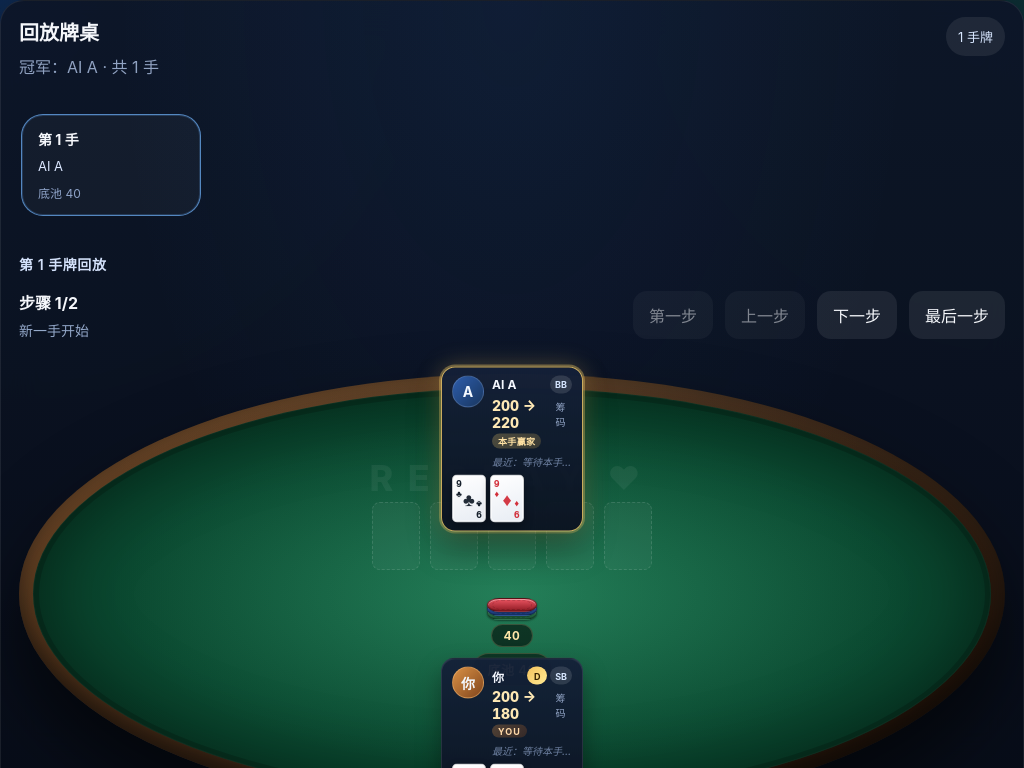
ReplayView › supports step navigation and shows matching model thoughts on the right
Check: the text "新一手开始" is shown, box 19,320 -> 89,340
Step 1. Click the button "下一步" → (857, 315), box 817,291 -> 897,339
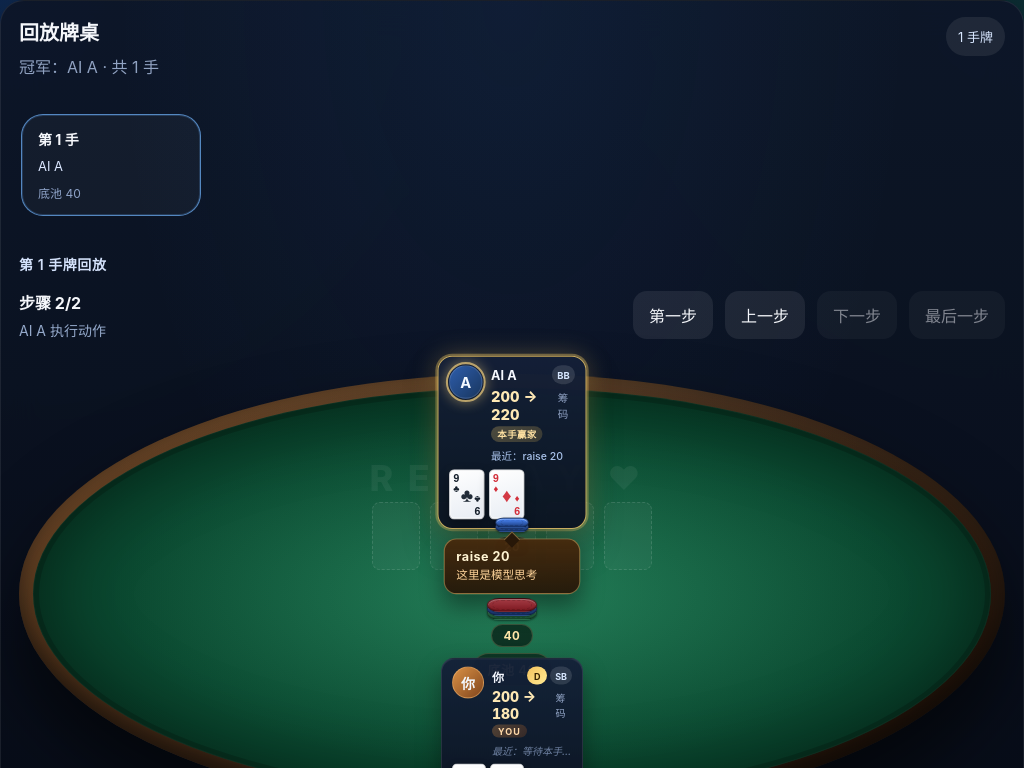
Check: the text "AI A 执行动作" is shown, box 19,320 -> 106,340
Check: the text "raise 20" is shown, box 456,548 -> 510,563
Check: the text "这里是模型思考" is shown, box 456,568 -> 537,582
